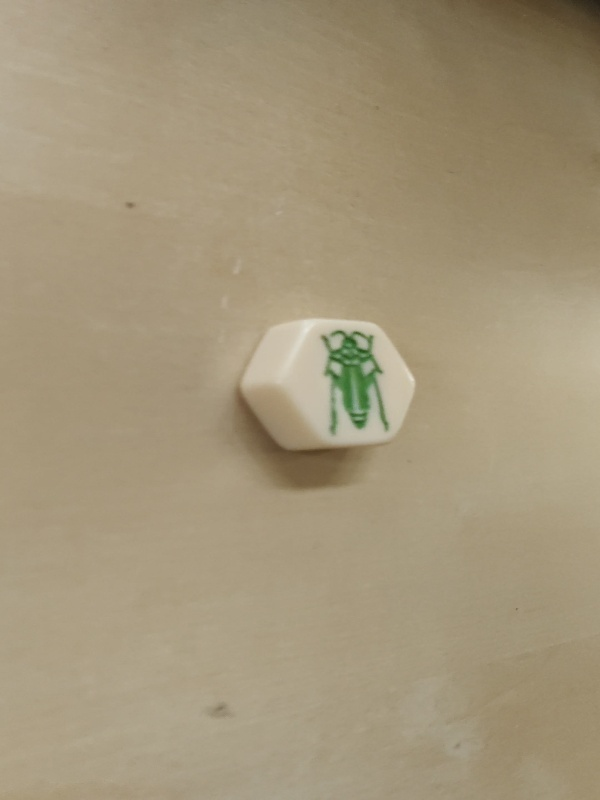white_grasshopper: (238, 314, 418, 455)
